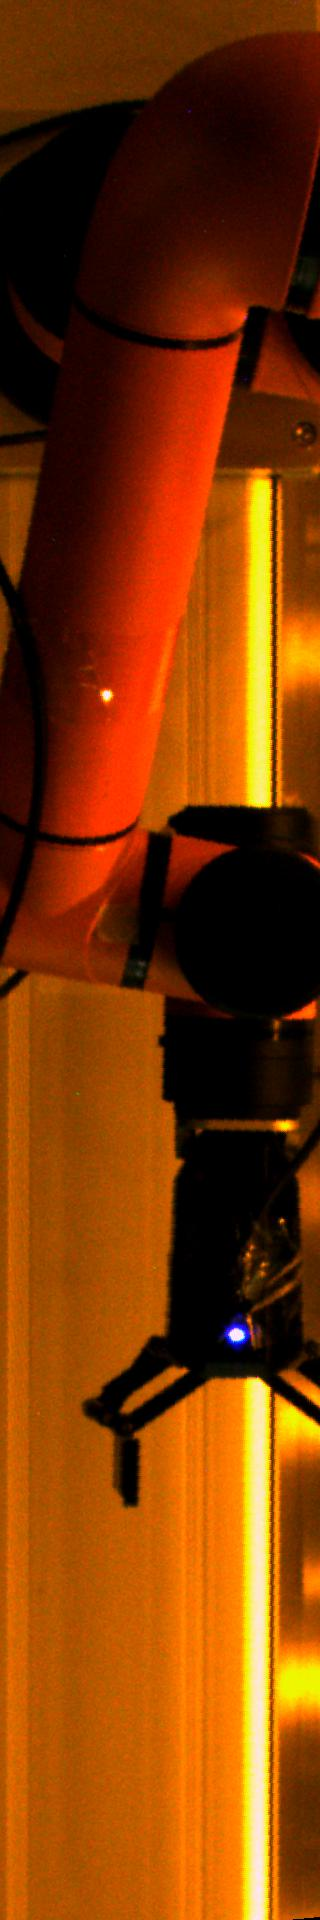keyPoint_1: (221, 1316, 251, 1346)
